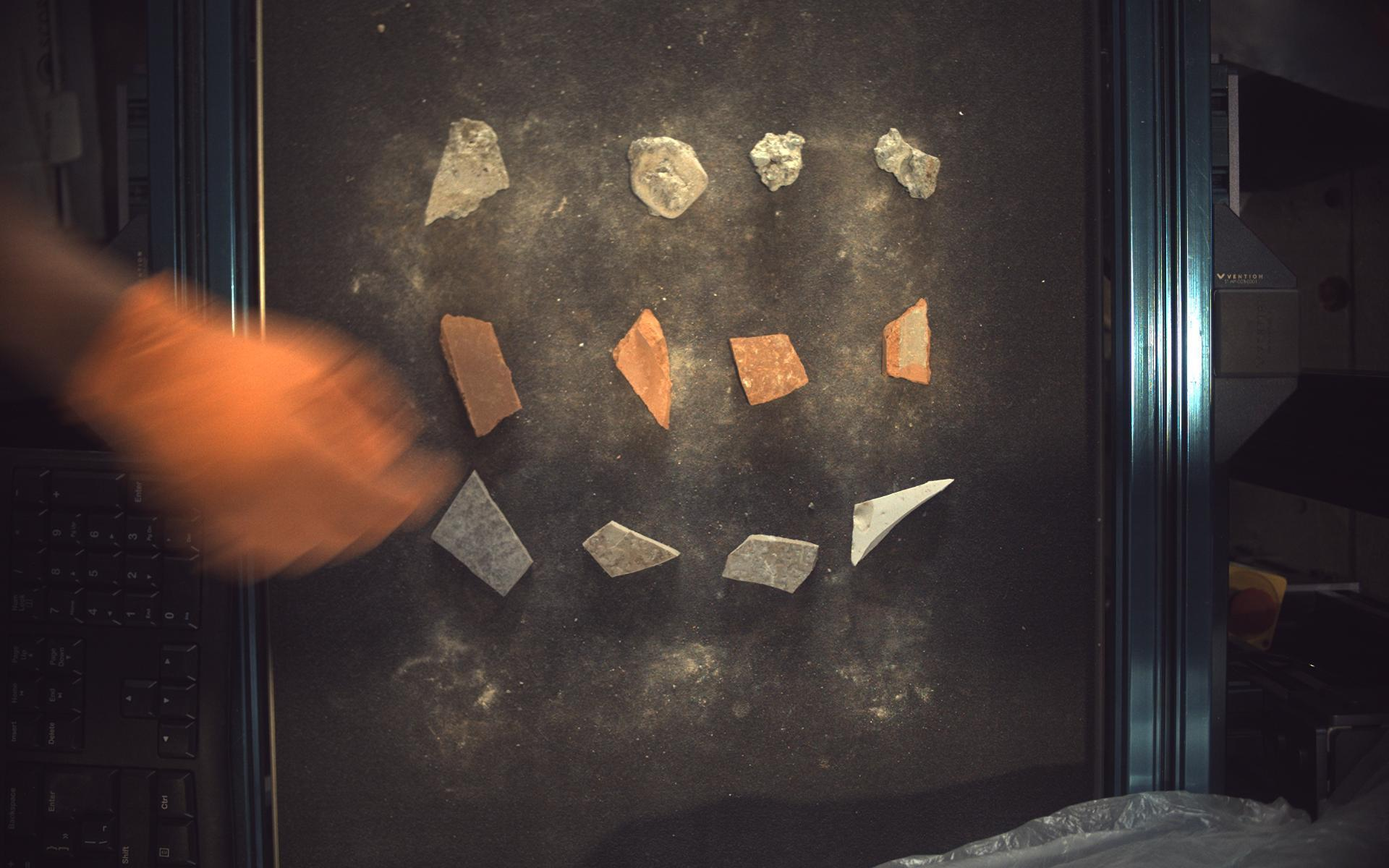brick: (441, 314, 522, 437), (613, 308, 672, 429), (731, 334, 810, 405), (885, 298, 933, 384)
concrete: (425, 116, 510, 224), (629, 135, 709, 218), (876, 127, 942, 198), (751, 131, 806, 191)
tile: (432, 471, 533, 597), (853, 480, 956, 566), (723, 535, 820, 593), (583, 522, 679, 577)
